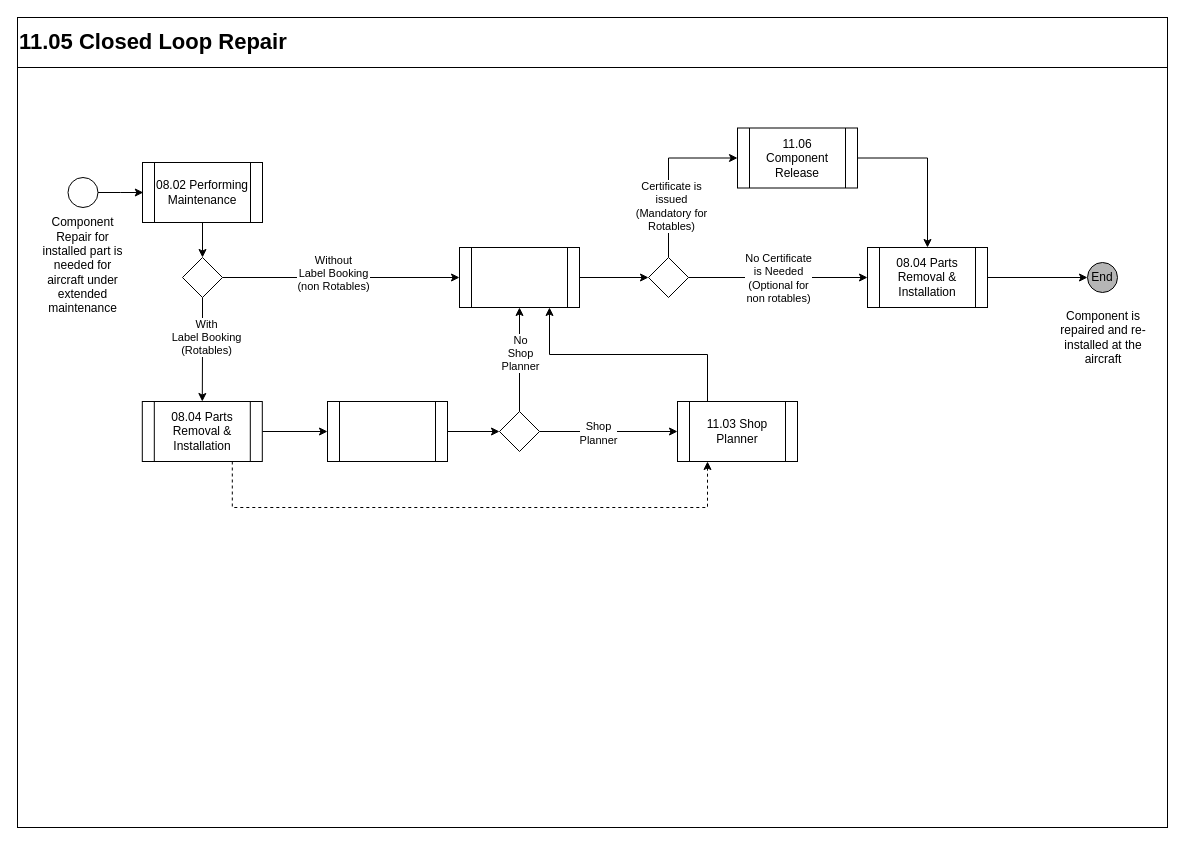
The diagram is 1185 pixels wide and 845 high, and some of its shapes have lost their labels. Here are the shapes that lost their labels. From the top down, the box of each, then its label:
(67, 176, 98, 208): Start
(458, 246, 580, 308): 11.04 Component Maintenance
(326, 400, 448, 462): 09.04 Repair and Exchanges
